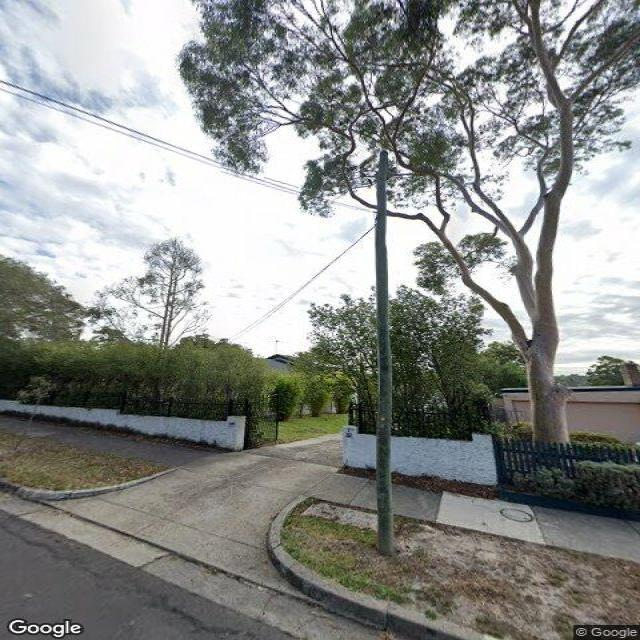timber-pole: (374, 149, 395, 557)
